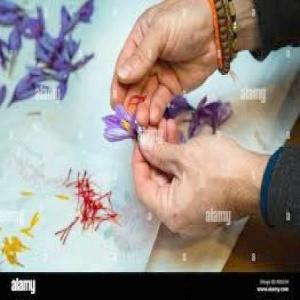Saffron: (100, 104, 148, 143), (8, 76, 44, 110)
